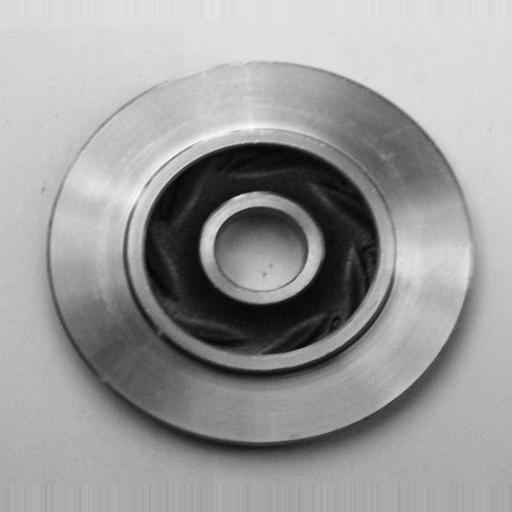unpolished_casting: (45, 55, 477, 448)
